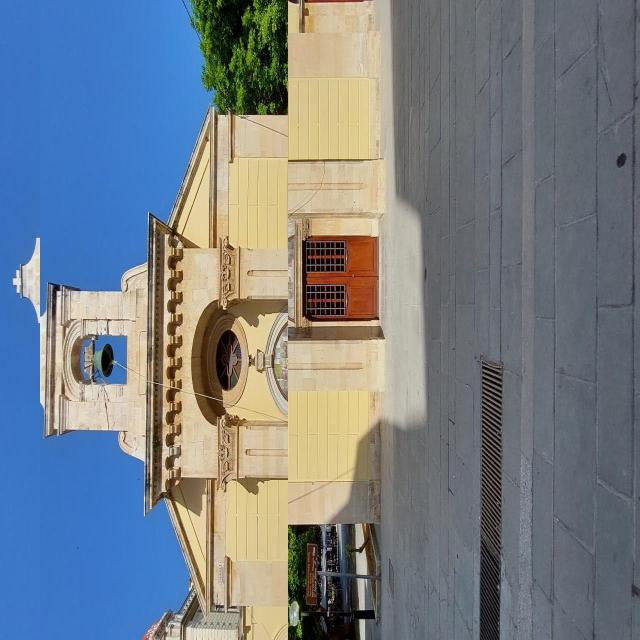Agios Minas: (41, 1, 289, 640)
